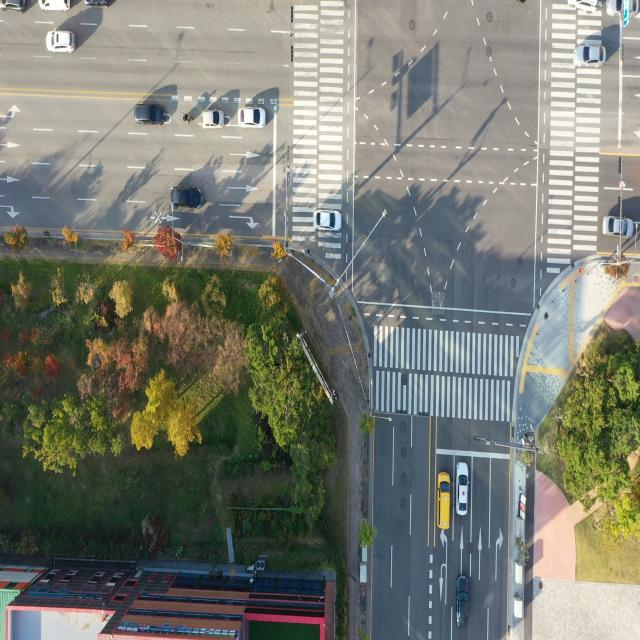car: (133, 102, 166, 128), (455, 575, 470, 629), (603, 215, 634, 241), (574, 44, 607, 68), (457, 463, 471, 519), (170, 185, 201, 209), (46, 30, 76, 54), (438, 470, 450, 530), (314, 210, 341, 232), (605, 0, 639, 16), (567, 0, 598, 17), (239, 108, 265, 128), (202, 108, 228, 127), (38, 0, 70, 13), (0, 0, 27, 14), (84, 0, 112, 11)
